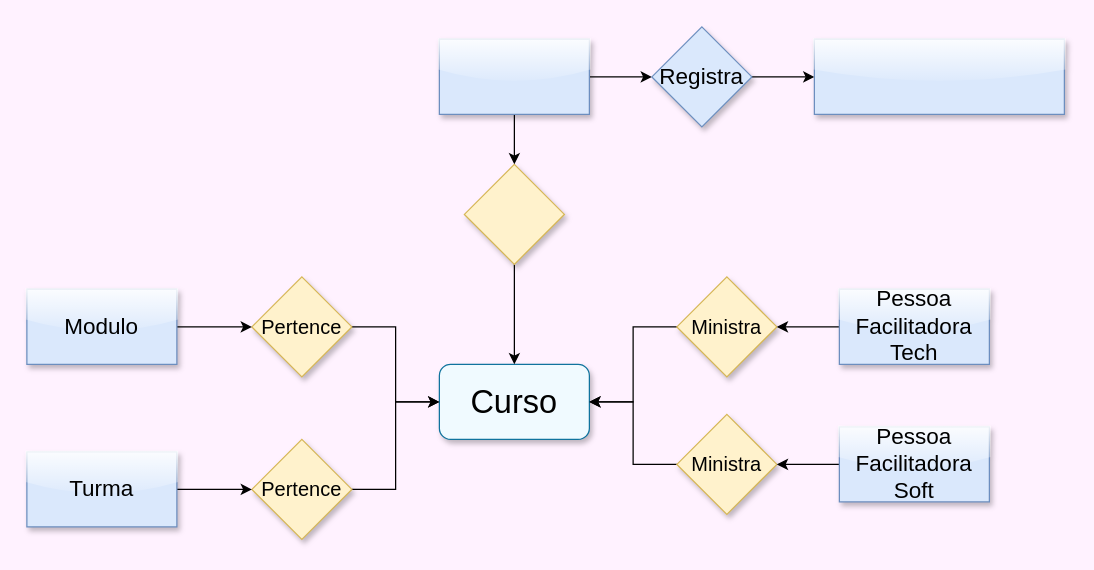
The diagram is 1094 pixels wide and 570 high, and some of its shapes have lost their labels. The centre of each missing label's shape, as x and y in pixels:
Estuda: [515,215]
Estudante: [515,78]
log_estudante_situacao: [940,78]
